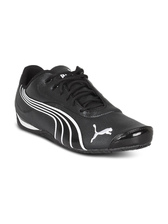shoes: (11, 58, 154, 155)
